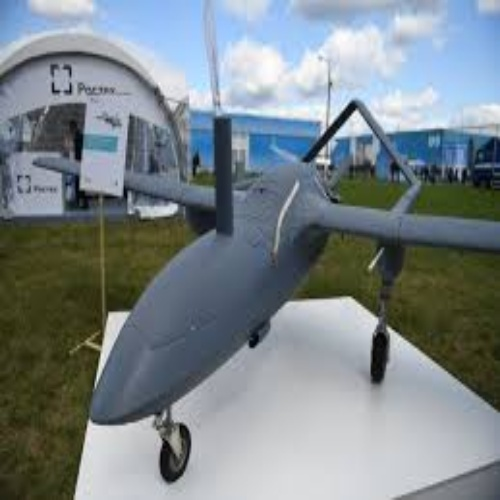uav497: (33, 98, 498, 482)
